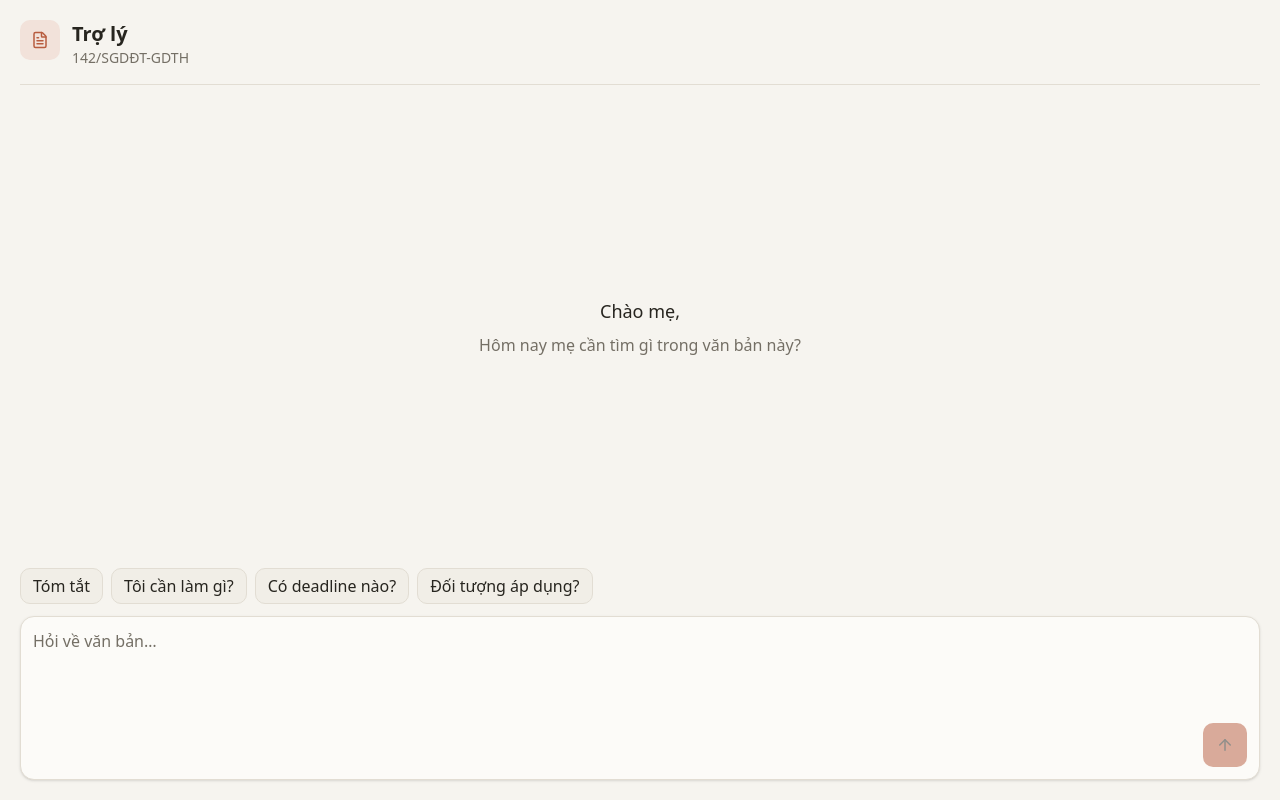
Scenario: AssistantPanel › renders the answered response through AnswerView
What coordinates should you click on to do the following:
click the button "Tóm tắt"
I would click on:
 (62, 586)
Its box is [20,568,103,604].
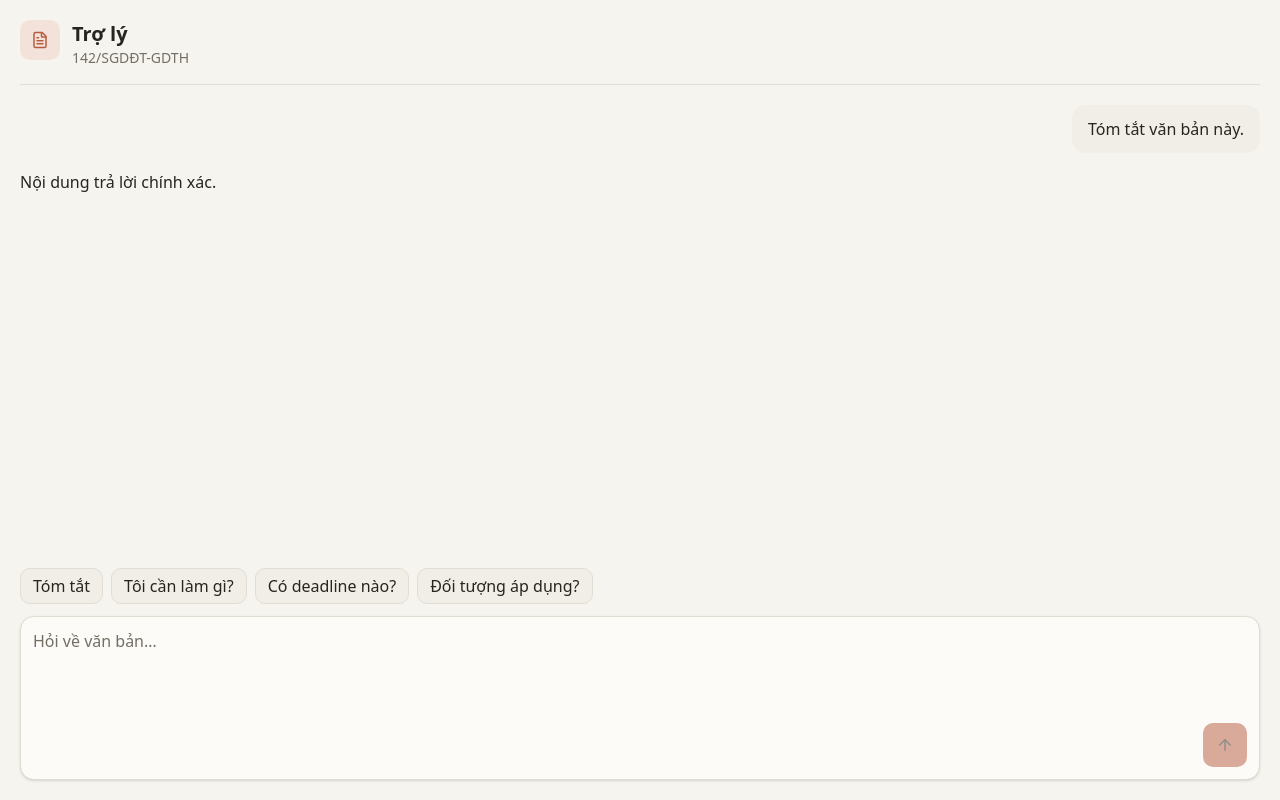
Check: the element showing "Nội dung trả lời chính xác." is shown, box [20,171,216,193]
